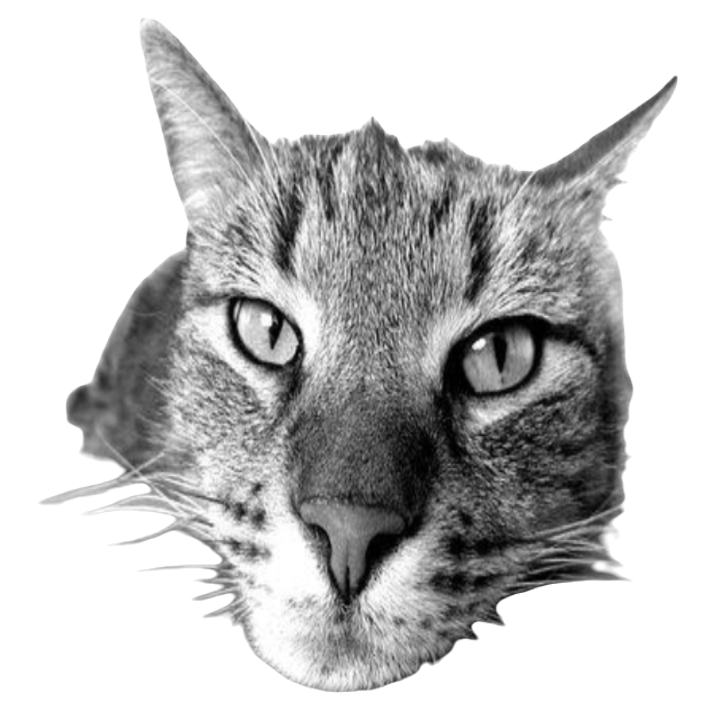Cat: (60, 11, 684, 690)
